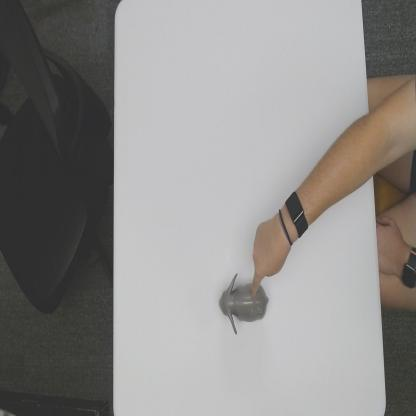Arm: (308, 112, 372, 224)
Elephant: (218, 272, 270, 336)
Hand: (250, 212, 290, 300)
